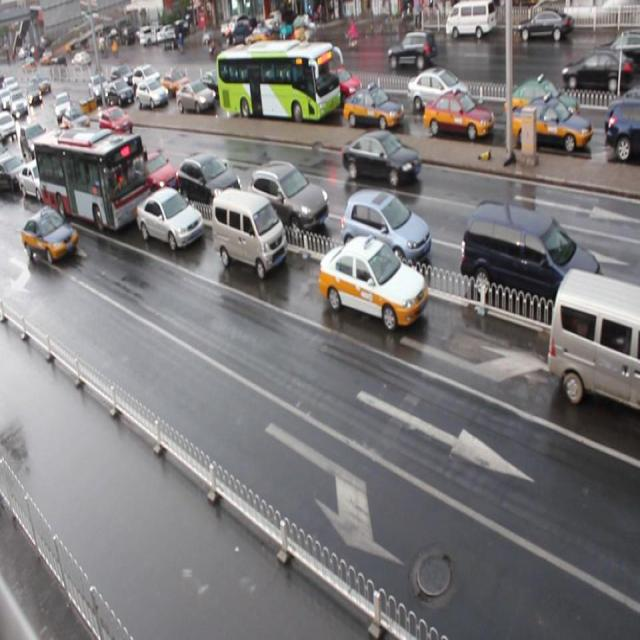car: (320, 233, 429, 332), (341, 190, 431, 274), (249, 160, 329, 233), (342, 128, 419, 188), (512, 97, 591, 155), (137, 186, 204, 250), (504, 75, 579, 129), (177, 151, 243, 210), (406, 68, 474, 116), (22, 207, 78, 264), (424, 92, 493, 138), (344, 83, 404, 133), (134, 146, 180, 194), (606, 98, 640, 159), (20, 157, 57, 201), (607, 92, 640, 138), (85, 134, 124, 172), (324, 64, 361, 100), (176, 82, 217, 114), (99, 106, 133, 141), (1, 152, 28, 194), (33, 129, 62, 168), (21, 124, 48, 162), (136, 78, 168, 110), (131, 62, 161, 93), (198, 69, 228, 99), (160, 69, 192, 96), (63, 107, 90, 135), (108, 78, 134, 105)
truck: (463, 197, 604, 327), (546, 266, 640, 416), (212, 187, 287, 279)
van: (34, 125, 154, 234), (216, 44, 340, 122)
